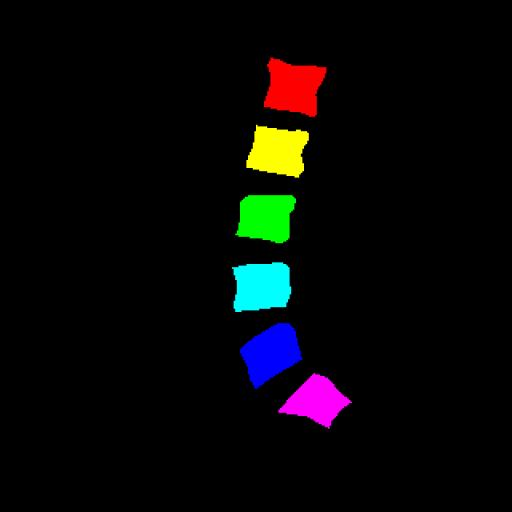L1: (264, 58, 326, 117)
L2: (246, 125, 309, 176)
L3: (236, 195, 296, 243)
L4: (233, 262, 291, 312)
L5: (240, 323, 302, 388)
S1: (278, 374, 351, 428)
